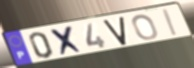0: (28, 31, 55, 60)
4: (84, 22, 107, 49)
I: (162, 8, 180, 38)
O: (131, 13, 160, 41)
V: (102, 15, 128, 47)
X: (48, 24, 85, 57)
